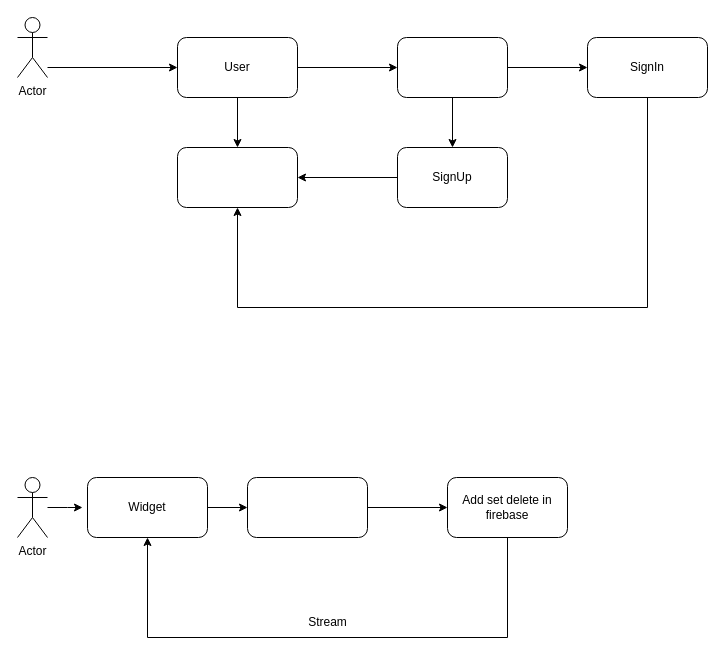
This 725x663 diagram has some shape labels left out. Here are the shapes that lost their labels. From the top down, the centre of each, then its label:
the point at 452,67: Authen
the point at 237,177: Home
the point at 307,507: Add set delete
